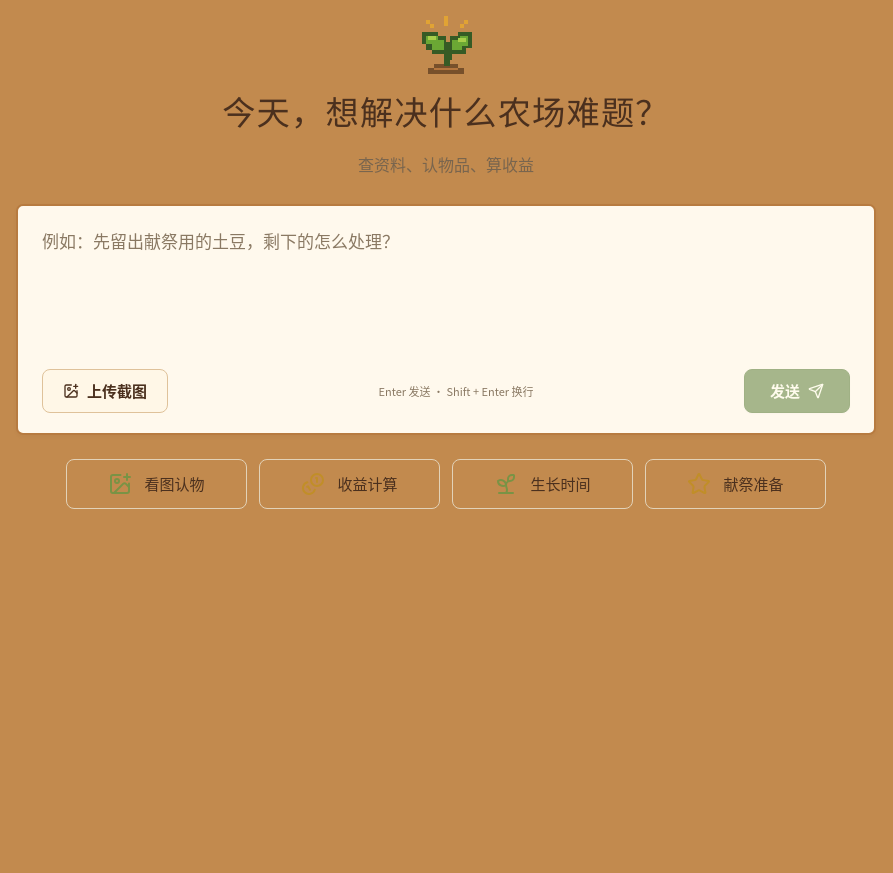
Test: chat without a knowledge snapshot › preserves the question and explains how to recover instead of creating a broken task
Step 1. Type "土豆多少钱？" into the text box named "你的农场问题" → (446, 287), box x1=42 y1=226 x2=850 y2=348
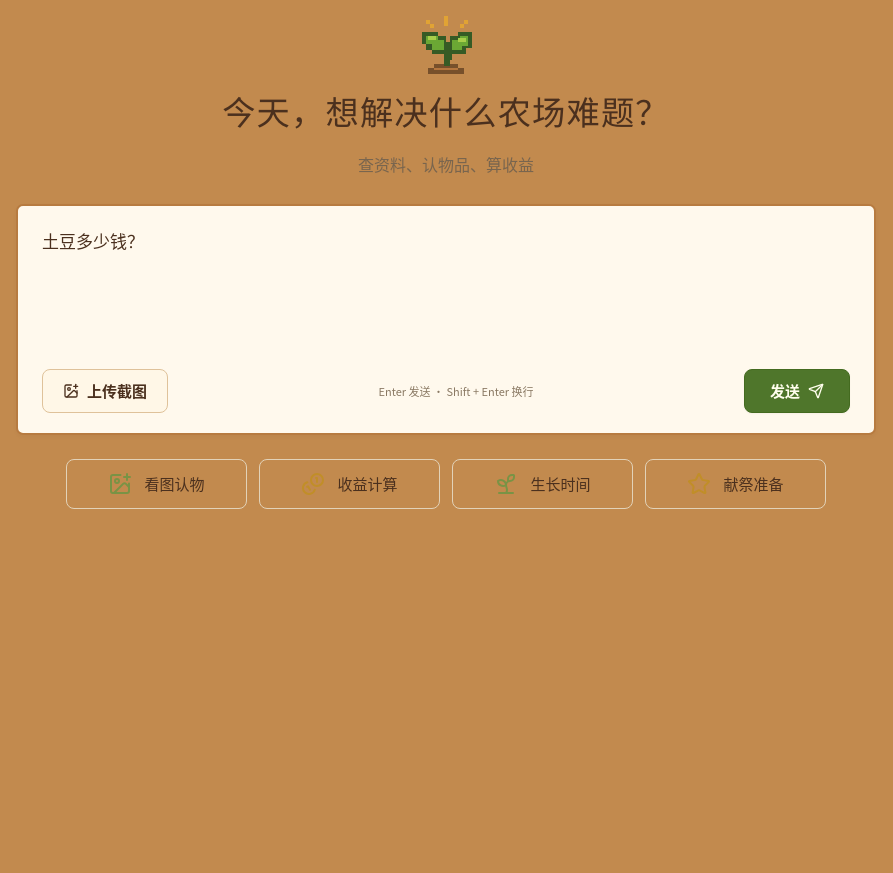
Step 2. Click the button "发送" → (797, 391), box x1=744 y1=369 x2=850 y2=413
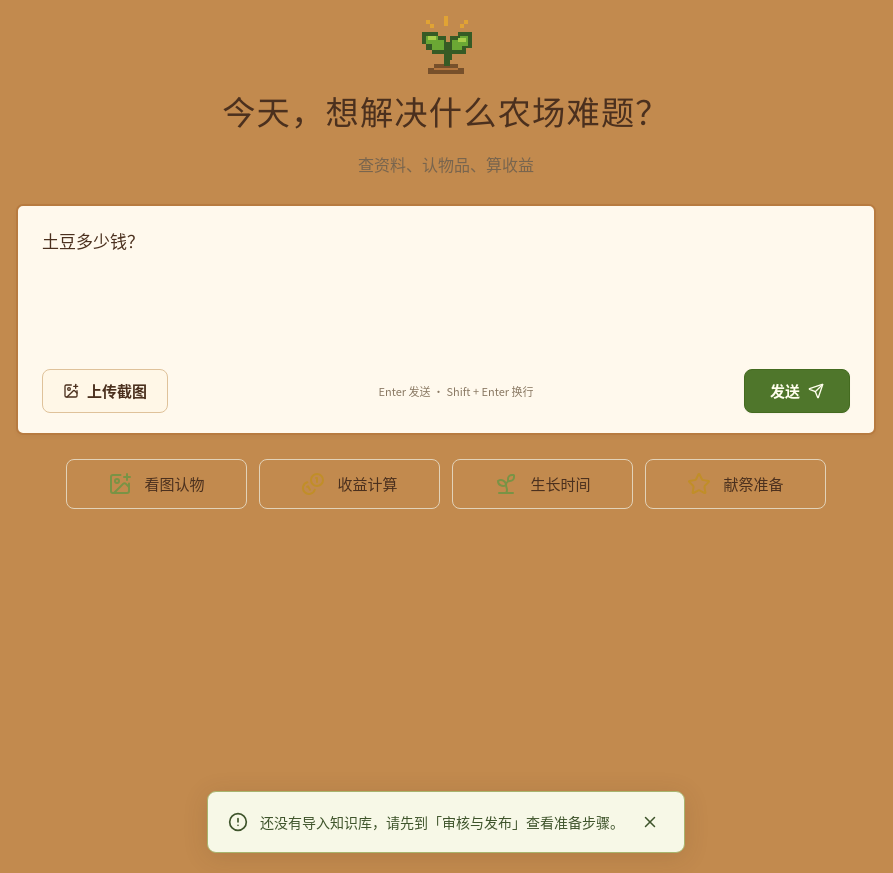
Expected: the message shows "还没有导入知识库", x1=260 y1=812 x2=624 y2=832
